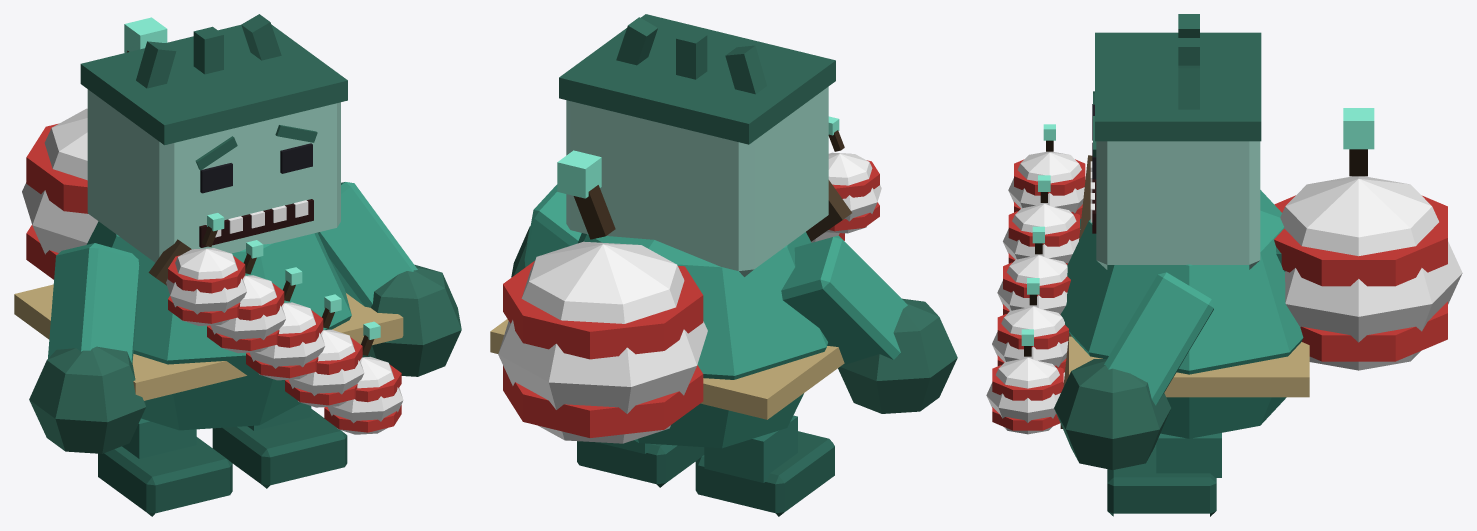
The model's file is r14_mini_buoy_bomber.glb.
The picture shows the model from 3 angles, left to right: view 1: azimuth 30°, elevation 25°; view 2: azimuth 150°, elevation 25°; view 3: azimuth 270°, elevation 25°; orthographic projection. The views are drawn at different scales.
Parts seen in each view (by area): view 1: r14_mini_buoy_bomber_mesh; view 2: r14_mini_buoy_bomber_mesh; view 3: r14_mini_buoy_bomber_mesh.
Part boxes in pixels (x1,y1,x2,y2): r14_mini_buoy_bomber_mesh: (14, 14, 461, 516); r14_mini_buoy_bomber_mesh: (490, 14, 957, 516); r14_mini_buoy_bomber_mesh: (986, 14, 1462, 516).
Size of the model in its own units: 3.61 by 3.6 by 3.61.
1 material, 1 textured.
